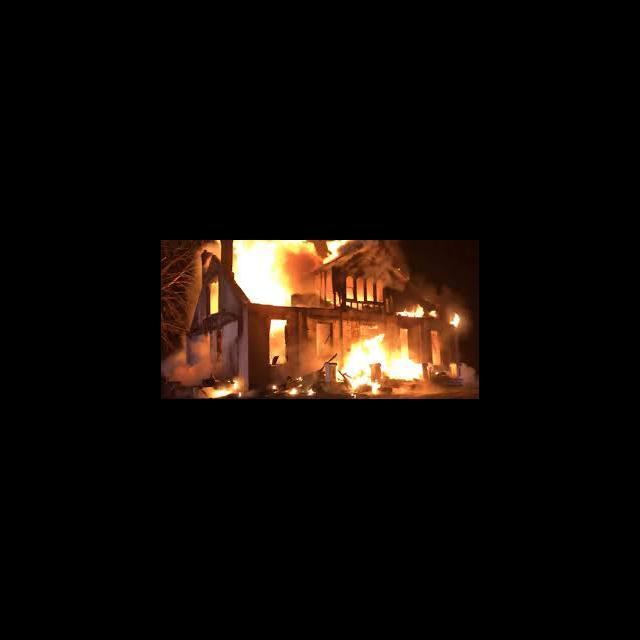Fire: (331, 329, 426, 394), (234, 241, 292, 307), (268, 319, 288, 365), (322, 240, 342, 266), (293, 240, 315, 260), (396, 305, 422, 319), (208, 282, 219, 314), (206, 388, 228, 399), (450, 311, 461, 328), (356, 278, 364, 301), (376, 279, 384, 302), (346, 276, 353, 299), (368, 280, 373, 302), (232, 378, 239, 390), (430, 308, 438, 318), (308, 388, 316, 396), (290, 389, 299, 395), (272, 385, 278, 393), (238, 393, 242, 398)
Smoke: (162, 337, 212, 384), (362, 242, 412, 276)
